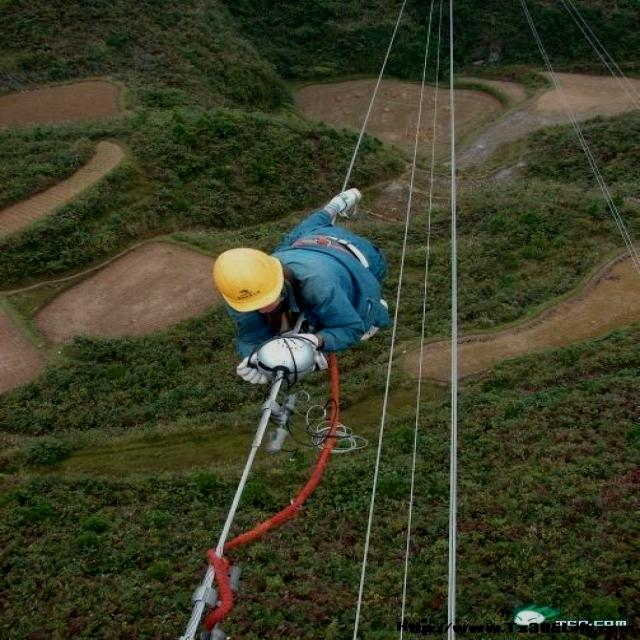hand_glove: (230, 360, 274, 394)
head_helmet: (211, 248, 281, 308)
person: (212, 184, 390, 381)
shoes: (322, 185, 365, 222)
